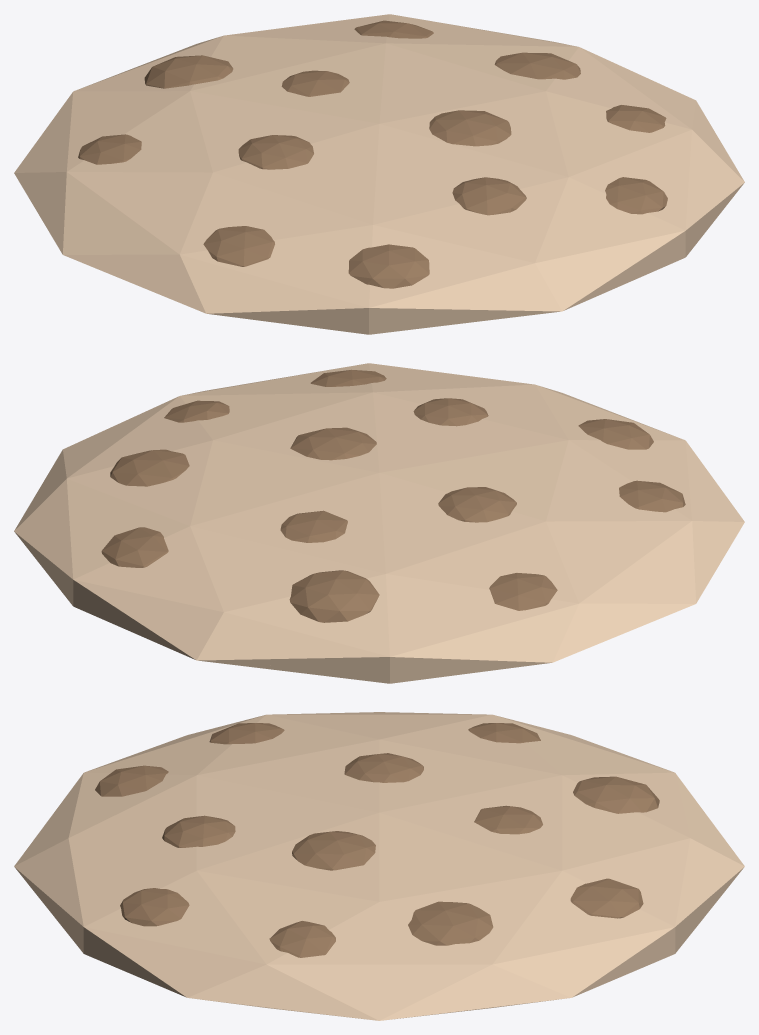
Rendered from Cookie.glb.
The picture shows the model from 3 angles, top to bottom: view 1: azimuth 30°, elevation 25°; view 2: azimuth 150°, elevation 25°; view 3: azimuth 270°, elevation 25°; orthographic projection.
Visible parts, largest first — view 1: Cookie; view 2: Cookie; view 3: Cookie.
Part boxes in pixels (x1,y1,x2,y2): Cookie: [14, 14, 744, 334]; Cookie: [14, 363, 744, 683]; Cookie: [14, 712, 744, 1020].
Bounding box in the file's own units: 0.5 × 0.0686 × 0.5.
